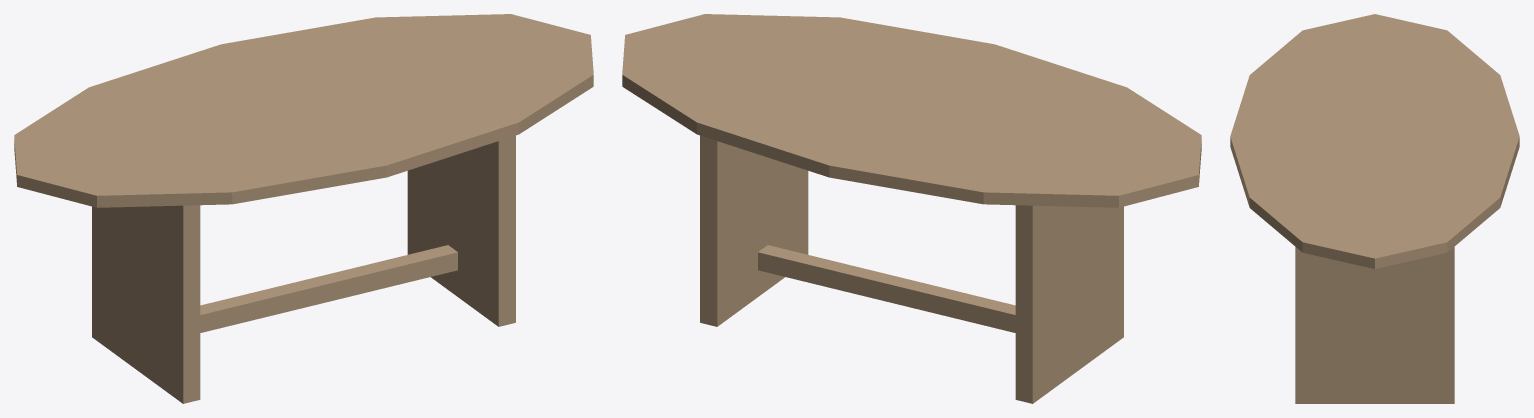
File: meeting_table.glb
3 views of the same model, side by side, from view 1: azimuth 30°, elevation 25°; view 2: azimuth 150°, elevation 25°; view 3: azimuth 270°, elevation 25° (orthographic). The views are drawn at different scales.
Parts seen in each view (by area): view 1: meeting_table; view 2: meeting_table; view 3: meeting_table.
Boxes of the visible parts, x1,y1,x2,y2 form: meeting_table: (14, 14, 593, 403); meeting_table: (622, 14, 1201, 403); meeting_table: (1230, 14, 1519, 403).
Bounding box in the file's own units: 2 × 0.75 × 1.
